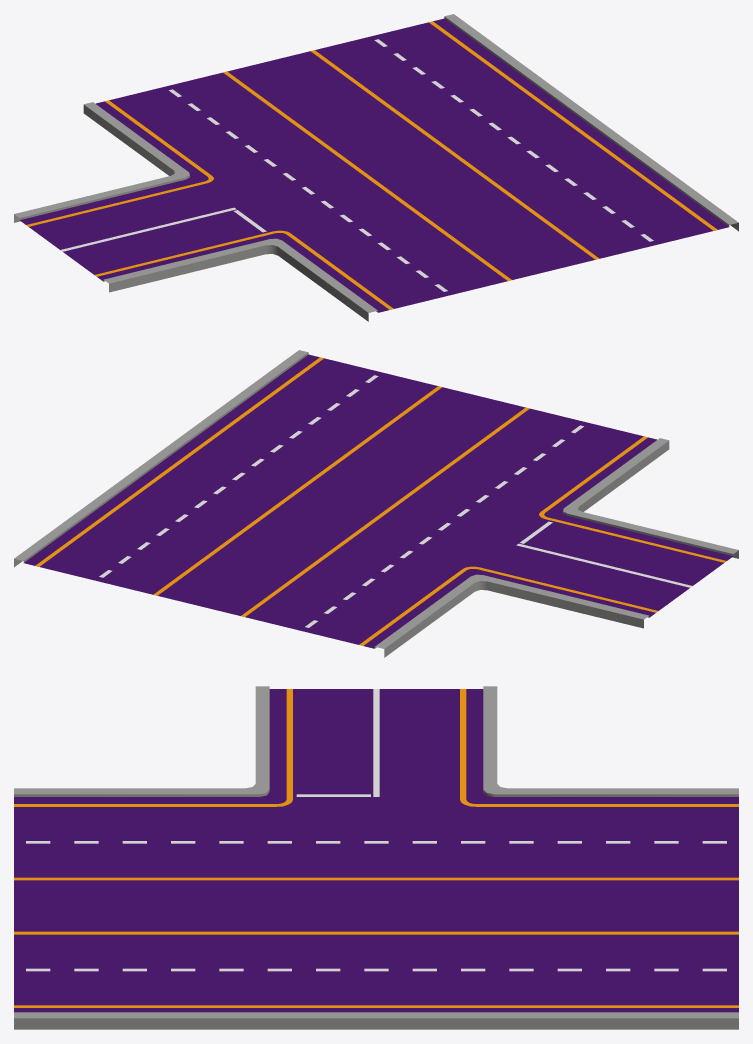
Rendered from Road_C_2L_1_4.fbx.
The picture shows the model from 3 angles, top to bottom: view 1: azimuth 30°, elevation 25°; view 2: azimuth 150°, elevation 25°; view 3: azimuth 270°, elevation 25°; orthographic projection. The views are drawn at different scales.
Parts seen in each view (by area): view 1: Road_C_2L_1_4; view 2: Road_C_2L_1_4; view 3: Road_C_2L_1_4.
Part boxes in pixels (<box>): Road_C_2L_1_4: <box>14,14,738,321</box>; Road_C_2L_1_4: <box>14,350,738,657</box>; Road_C_2L_1_4: <box>14,686,738,1029</box>.
Bounding box in the file's own units: 2600 × 41.48 × 2400.
